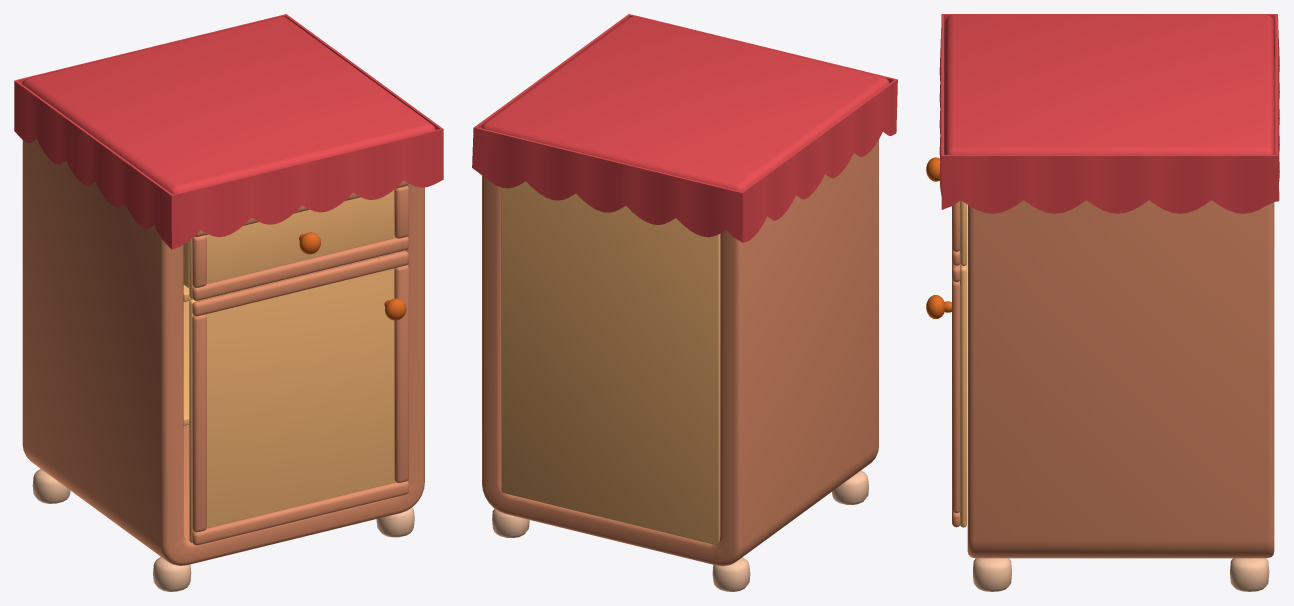
File: armario_cozinha_base_gaveta_porta_campestre.glb
3 views of the same model, side by side, from view 1: azimuth 30°, elevation 25°; view 2: azimuth 150°, elevation 25°; view 3: azimuth 270°, elevation 25° (orthographic). The views are drawn at different scales.
Parts seen in each view (by area): view 1: armario_cozinha_base_gaveta_porta_campestre, porta_1, gaveta_1; view 2: armario_cozinha_base_gaveta_porta_campestre; view 3: armario_cozinha_base_gaveta_porta_campestre, porta_1, gaveta_1.
Boxes of the visible parts, x1,y1,x2,y2 form: armario_cozinha_base_gaveta_porta_campestre: (14, 14, 443, 591); porta_1: (189, 250, 408, 545); gaveta_1: (183, 180, 408, 300); armario_cozinha_base_gaveta_porta_campestre: (472, 14, 897, 591); armario_cozinha_base_gaveta_porta_campestre: (939, 14, 1279, 591); porta_1: (926, 262, 966, 527); gaveta_1: (926, 157, 966, 265).
Bounding box in the file's own units: 0.618 × 0.9 × 0.6436.
1 material, 1 textured.
